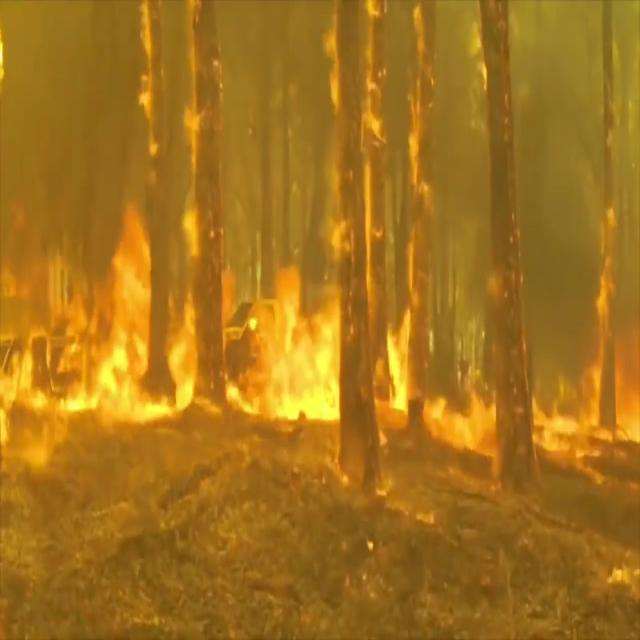Fire: (1, 186, 208, 436), (381, 231, 499, 479), (536, 204, 640, 482), (228, 250, 346, 433)
